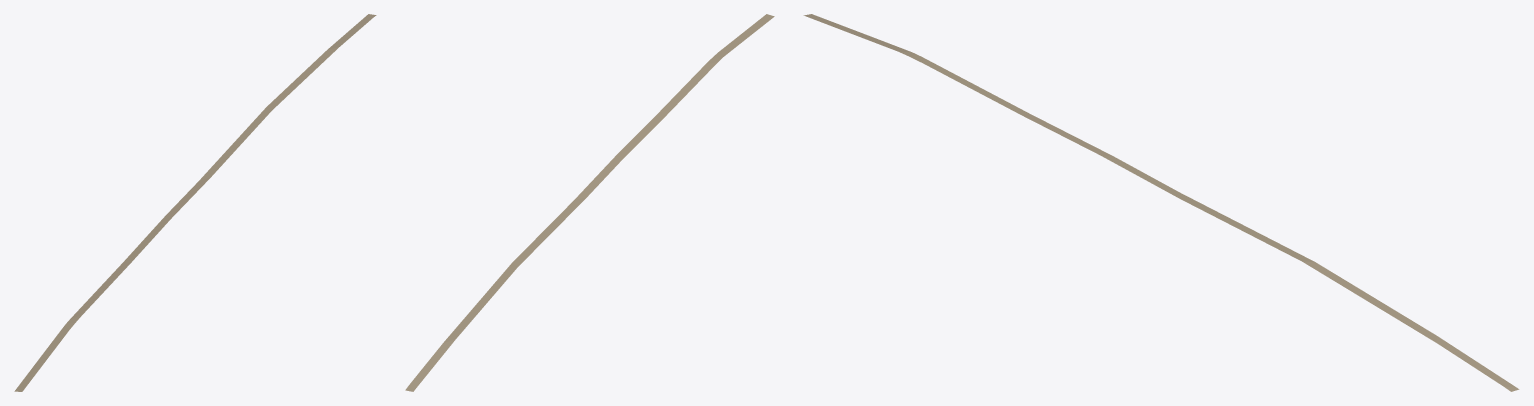
The model's file is farm_-35_-31_track.glb.
The picture shows the model from 3 angles, left to right: view 1: azimuth 30°, elevation 25°; view 2: azimuth 210°, elevation 25°; view 3: azimuth 270°, elevation 25°; orthographic projection. The views are drawn at different scales.
Visible parts, largest first — view 1: geometry_0; view 2: geometry_0; view 3: geometry_0.
Part boxes in pixels (x1=…): geometry_0: x1=14, y1=14, x2=376, y2=391; geometry_0: x1=405, y1=14, x2=774, y2=391; geometry_0: x1=803, y1=14, x2=1519, y2=391.
Size of the model in its own units: 283 by 8.14 by 223.
